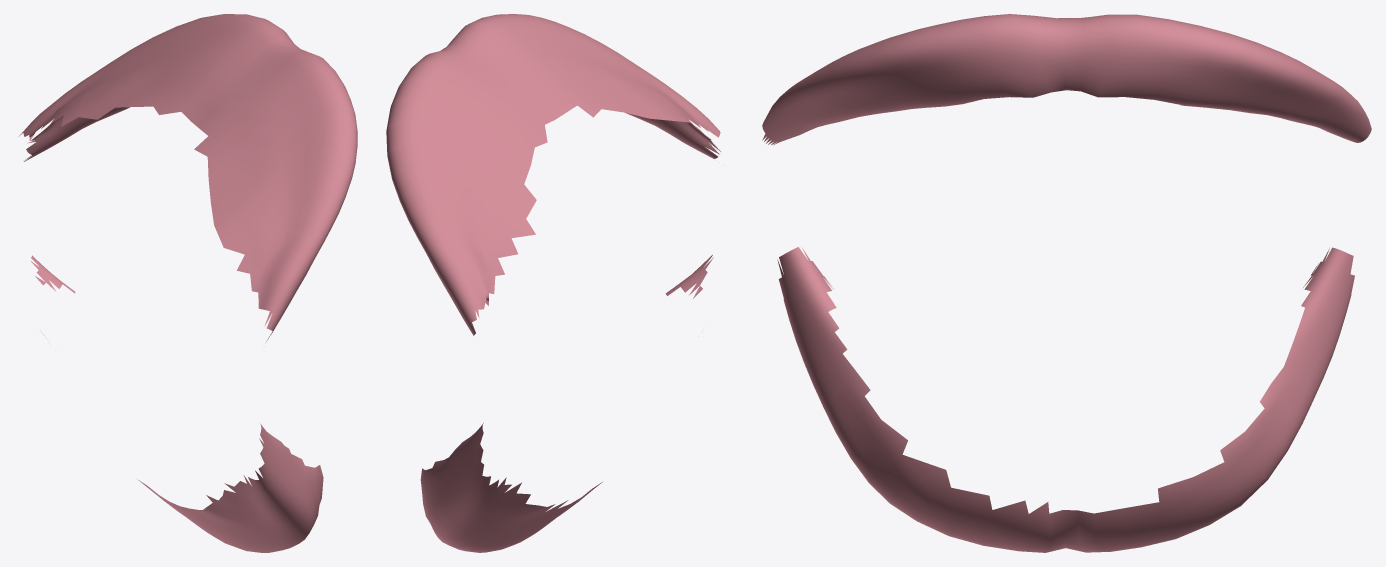
The model's file is realistic-open-mouth-lips-clean-tight.glb.
The picture shows the model from 3 angles, left to right: view 1: azimuth 30°, elevation 25°; view 2: azimuth 150°, elevation 25°; view 3: azimuth 270°, elevation 25°; orthographic projection. The views are drawn at different scales.
Visible parts, largest first — view 1: lips-clean-tight; view 2: lips-clean-tight; view 3: lips-clean-tight.
Part boxes in pixels (box(x1,y1,x2,y2)): lips-clean-tight: box(18, 14, 357, 552); lips-clean-tight: box(386, 14, 720, 552); lips-clean-tight: box(762, 14, 1371, 552).
Bounding box in the file's own units: 0.365 × 0.9483 × 0.9184.
